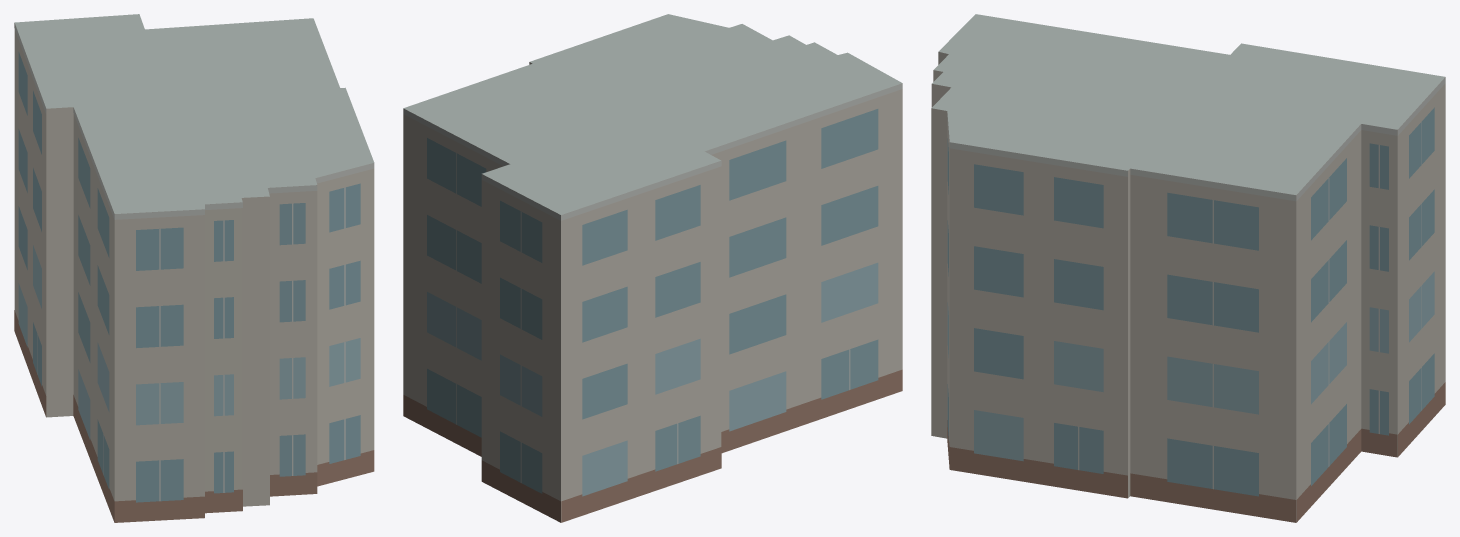
The model's file is survey-upis-32657854.glb.
The picture shows the model from 3 angles, left to right: view 1: azimuth 30°, elevation 25°; view 2: azimuth 150°, elevation 25°; view 3: azimuth 270°, elevation 25°; orthographic projection. The views are drawn at different scales.
Parts seen in each view (by area): view 1: survey-upis-32657854.tmp; view 2: survey-upis-32657854.tmp; view 3: survey-upis-32657854.tmp.
Part boxes in pixels (box(x1,y1,x2,y2)): survey-upis-32657854.tmp: box(14, 14, 374, 522); survey-upis-32657854.tmp: box(403, 14, 902, 522); survey-upis-32657854.tmp: box(931, 14, 1445, 522).
Bounding box in the file's own units: 15.5 × 13.06 × 18.59.
